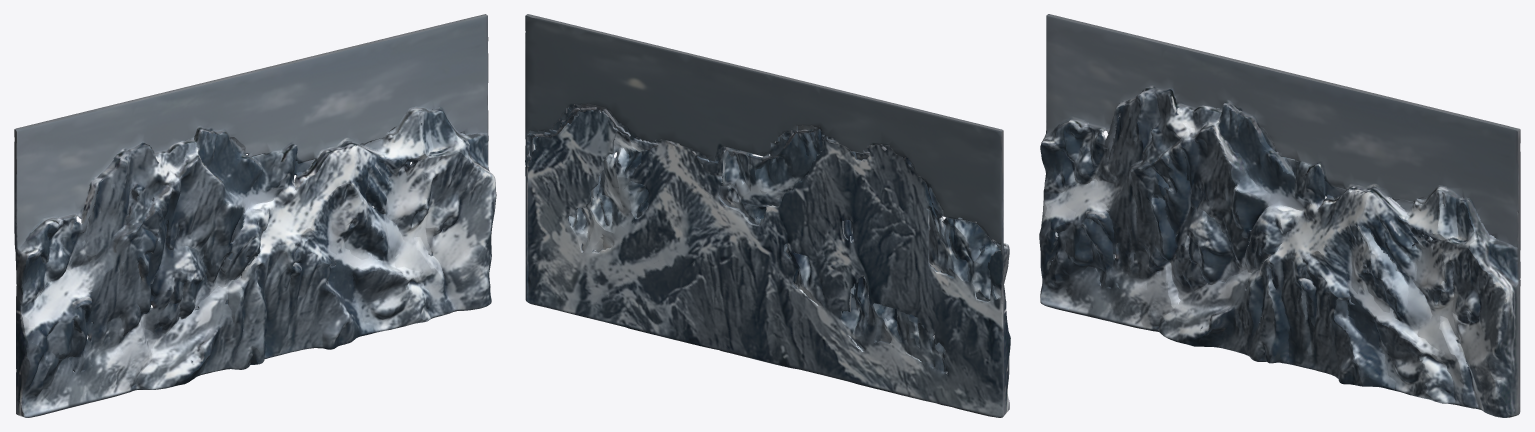
Rendered from mountain-mid.glb.
The picture shows the model from 3 angles, left to right: view 1: azimuth 30°, elevation 25°; view 2: azimuth 150°, elevation 25°; view 3: azimuth 330°, elevation 25°; orthographic projection.
Parts seen in each view (by area): view 1: geometry_0; view 2: geometry_0; view 3: geometry_0.
Part boxes in pixels (bbox=[...]): geometry_0: bbox=[14, 14, 496, 417]; geometry_0: bbox=[525, 14, 1010, 417]; geometry_0: bbox=[1039, 14, 1520, 417].
Size of the model in its own units: 0.9 by 0.5235 by 0.0516.
Materials: 1 (1 with a texture image).
